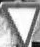Give way: (0, 0, 35, 43)
